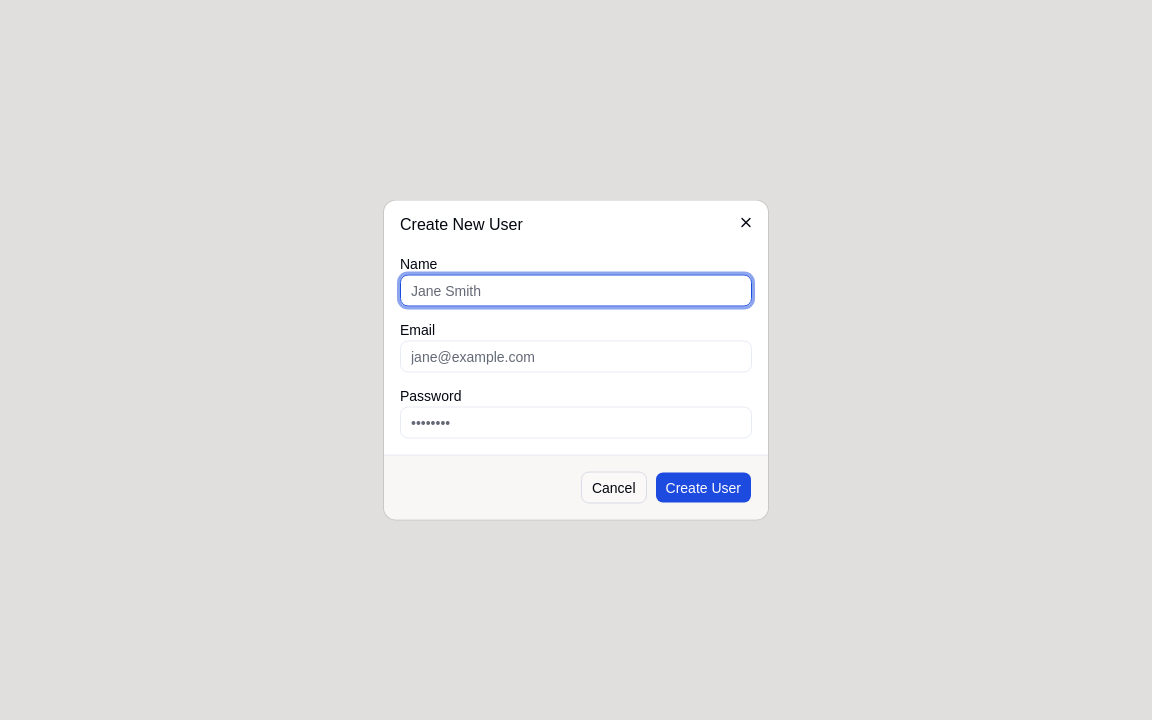
Test: UserFormDialog (create) — validation › shows all errors on empty-form submit
Click the button "Create User".
click(703, 488)  # box 654,472 -> 752,504
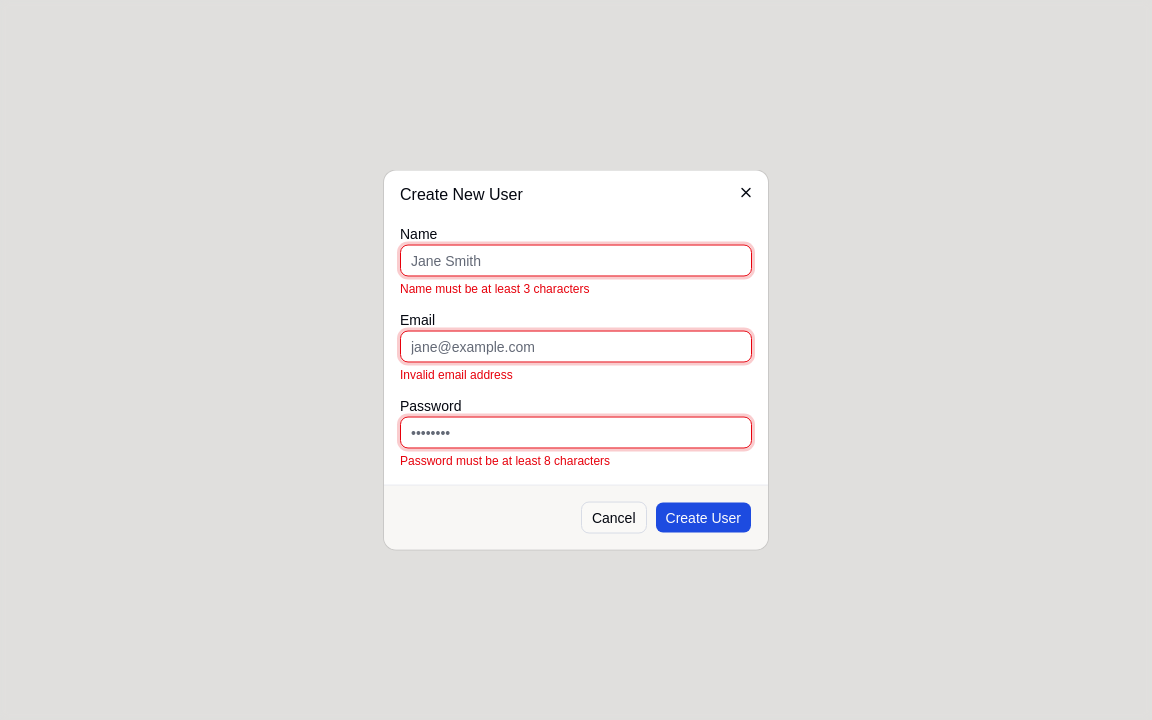
expect the text "Name must be at least 3 characters" is shown: met, box 400,282 -> 589,296
expect the text "Invalid email address" is shown: met, box 400,368 -> 513,382
expect the text "Password must be at least 8 characters" is shown: met, box 400,454 -> 610,468
